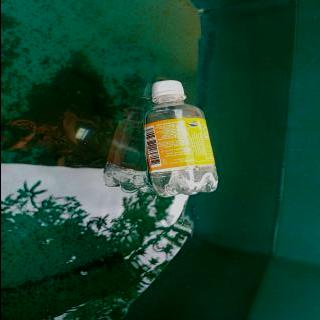bottle: (143, 80, 220, 198)
